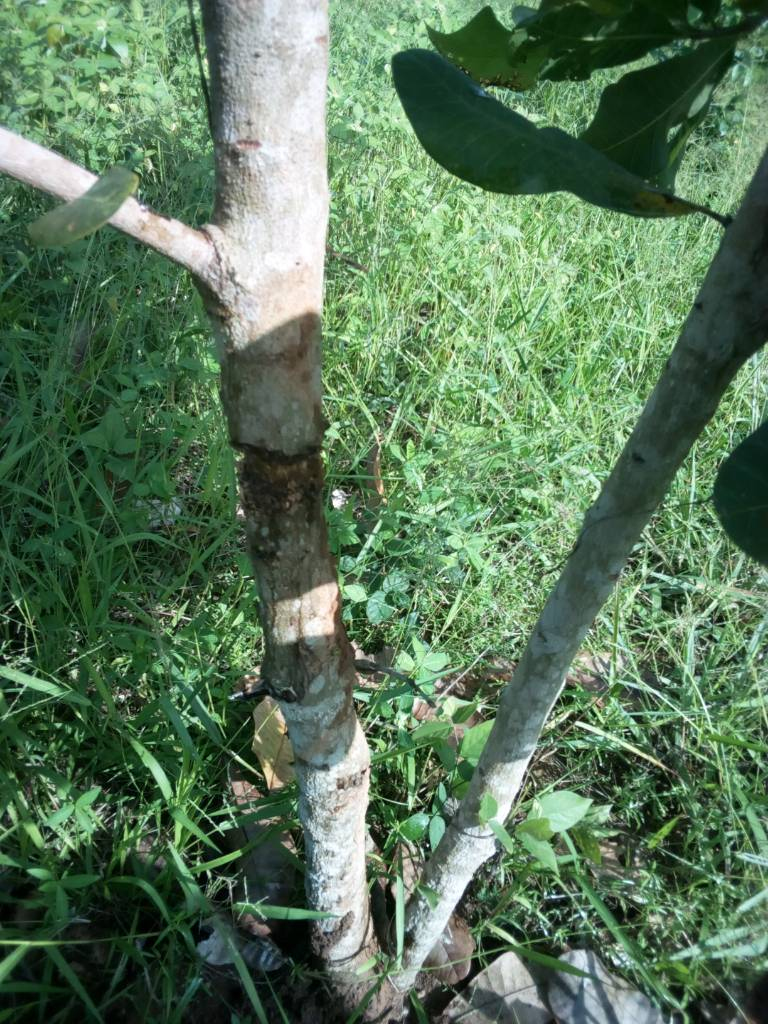Analepse trifasciata: (205, 413, 360, 502)
